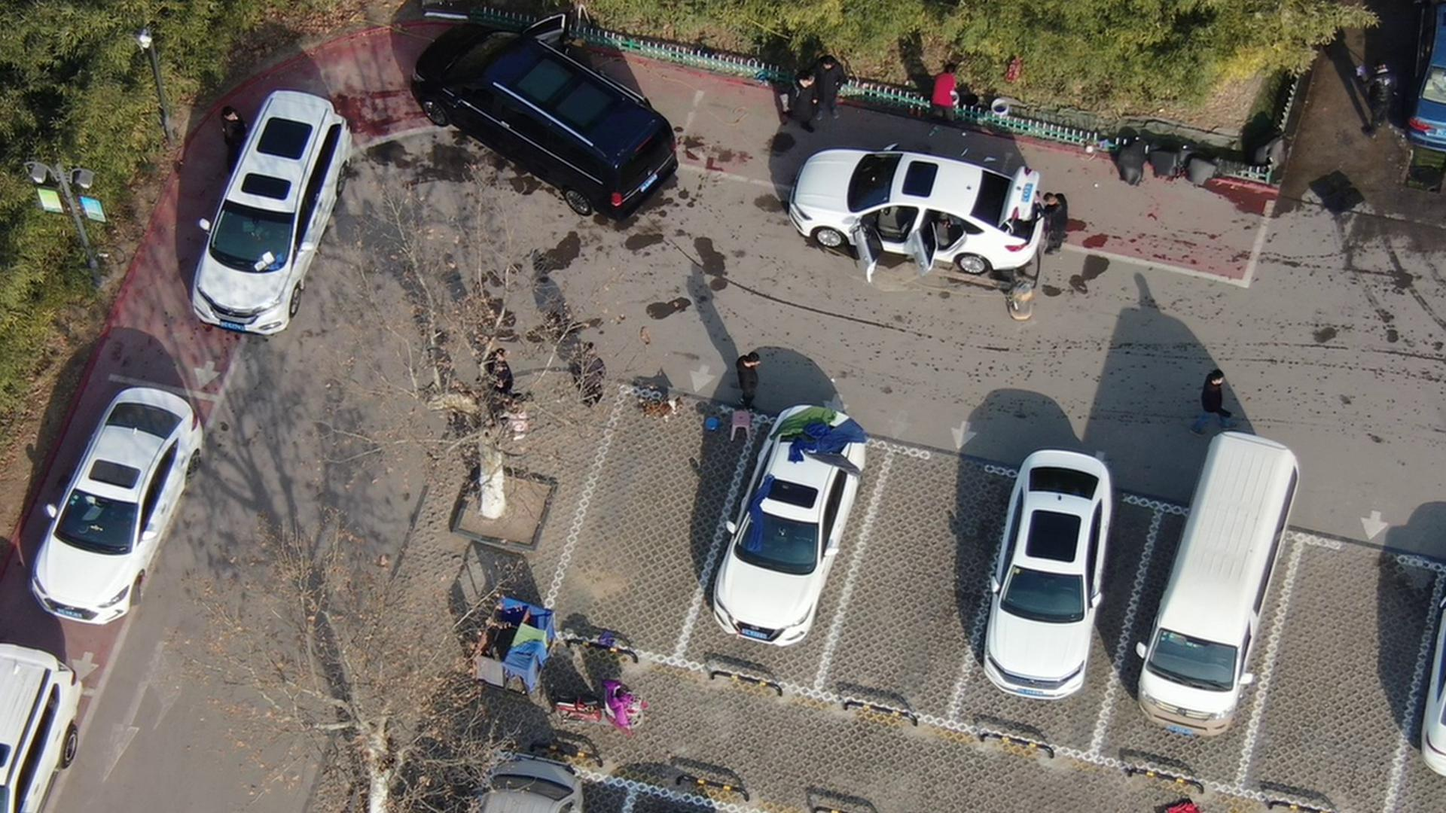class_2: (495, 342, 537, 422)
human: (1353, 56, 1404, 139), (1189, 368, 1240, 445), (1036, 185, 1078, 261), (573, 340, 610, 413), (227, 105, 264, 176), (822, 45, 857, 117), (938, 54, 973, 122), (737, 351, 773, 413), (789, 64, 822, 130)
